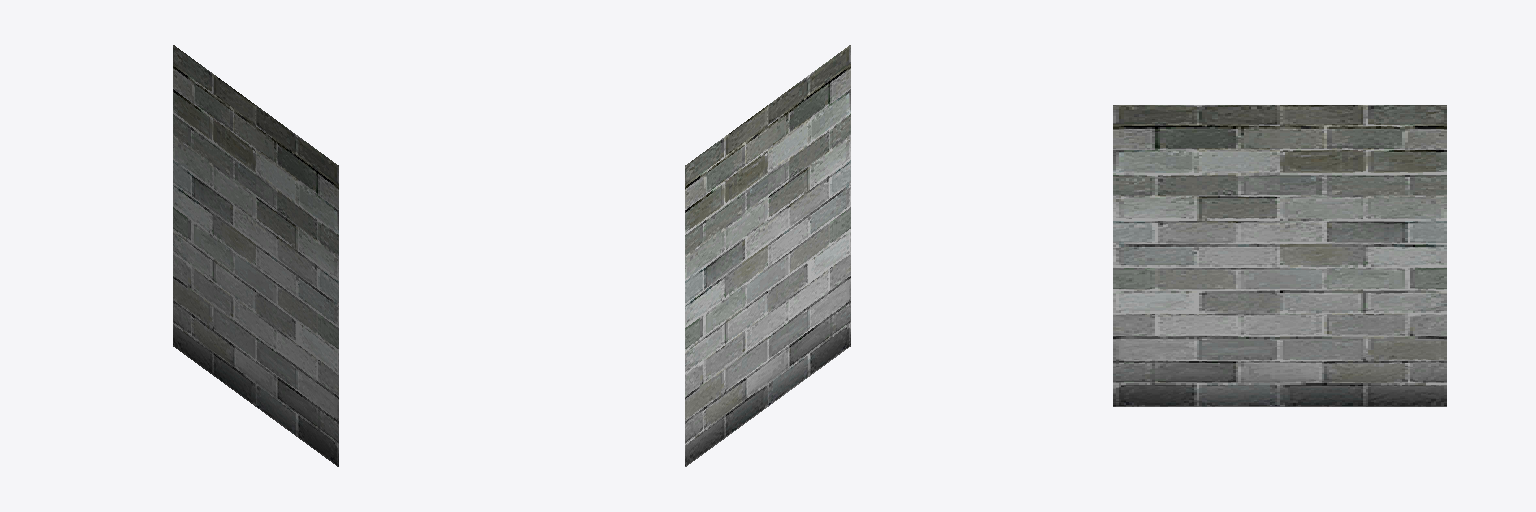
3 views of the same model, side by side, from view 1: azimuth 30°, elevation 25°; view 2: azimuth 150°, elevation 25°; view 3: azimuth 270°, elevation 25° (orthographic).
Parts seen in each view (by area): view 1: Plane; view 2: Plane; view 3: Plane.
Part boxes in pixels (bbox=[...]): Plane: bbox=[173, 45, 338, 466]; Plane: bbox=[685, 45, 850, 466]; Plane: bbox=[1113, 105, 1446, 406].
Bounding box in the file's own units: 0 × 2 × 2.
1 materials, 1 textured.